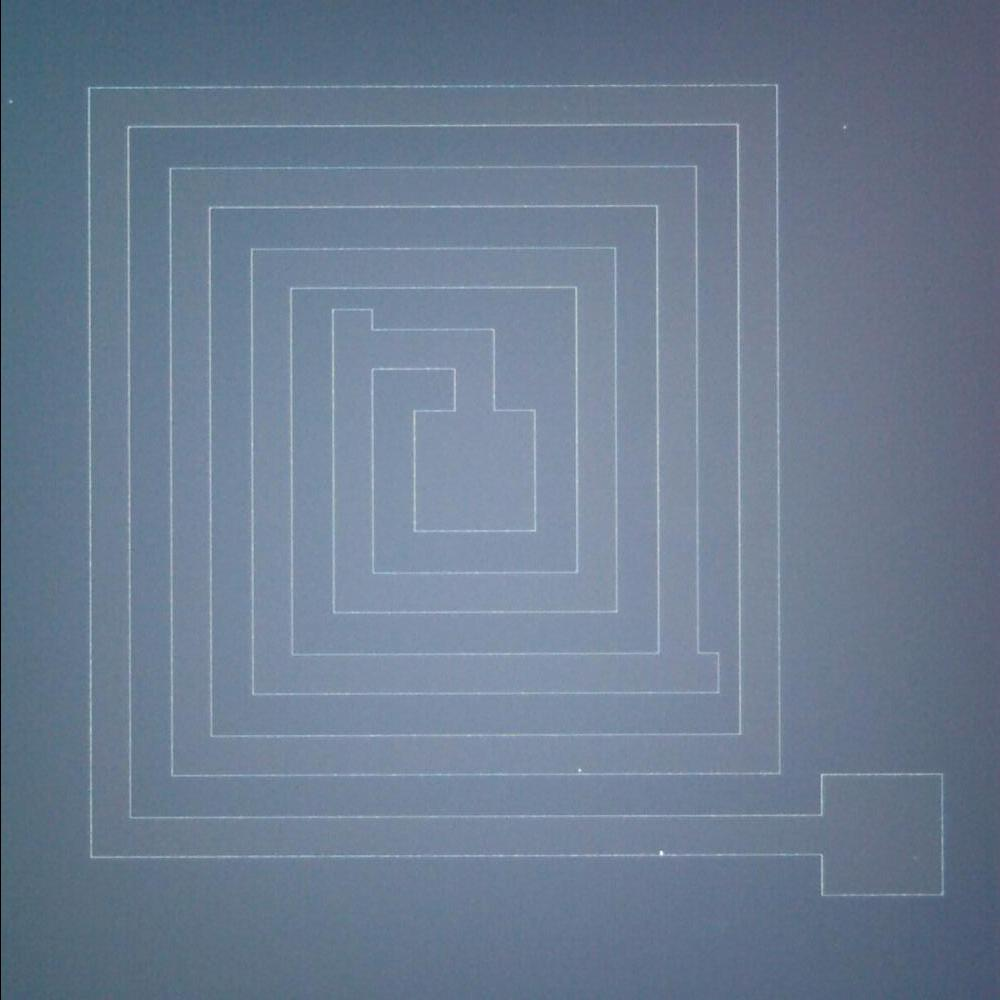budge circuit: (686, 638, 733, 702), (321, 298, 380, 338)
dot: (648, 840, 672, 864)
